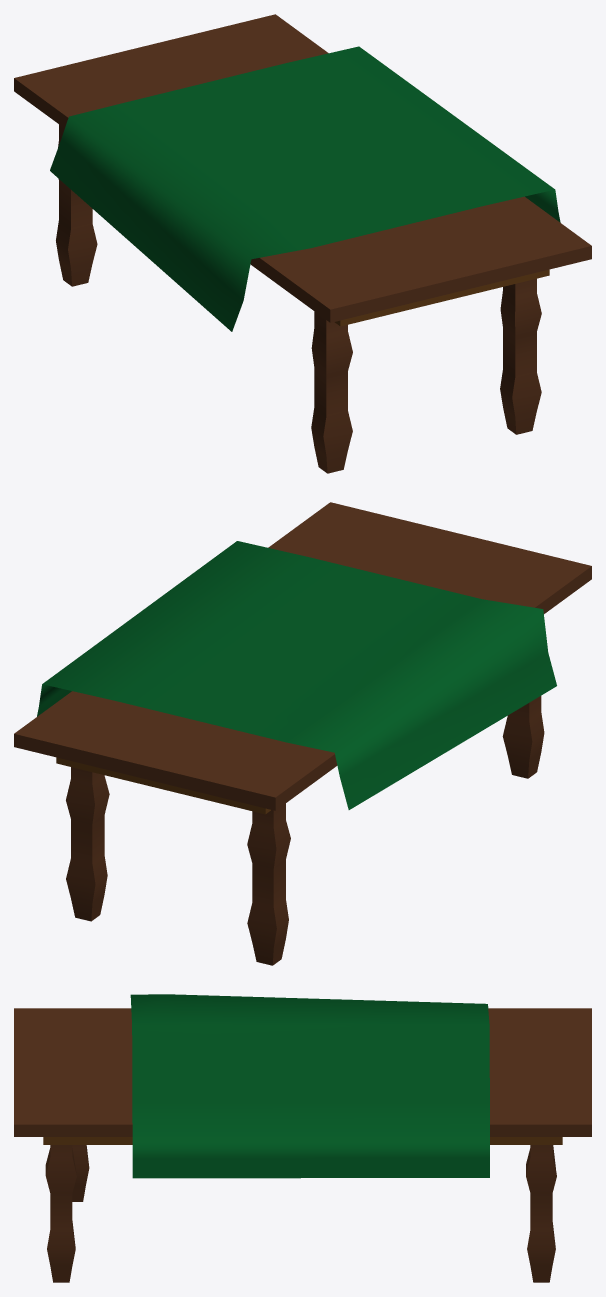
Rendered from Meja.dae.
The picture shows the model from 3 angles, top to bottom: view 1: azimuth 30°, elevation 25°; view 2: azimuth 150°, elevation 25°; view 3: azimuth 270°, elevation 25°; orthographic projection. The views are drawn at different scales.
Visible parts, largest first — view 1: pPlane1, pCube3, pasted__pasted__pasted__pCube4, pCube4, pasted__pasted__pCube4, pasted__pCube3; view 2: pPlane1, pCube3, pasted__pasted__pCube4, pasted__pCube4, pasted__pasted__pasted__pCube4, pasted__pCube3; view 3: pPlane1, pCube3, pCube4, pasted__pCube4, pasted__pCube3, pasted__pasted__pasted__pCube4.
Part boxes in pixels (bbox=[...]): pPlane1: bbox=[50, 46, 560, 331]; pCube3: bbox=[14, 14, 591, 322]; pasted__pasted__pasted__pCube4: bbox=[311, 311, 352, 473]; pCube4: bbox=[500, 278, 541, 434]; pasted__pasted__pCube4: bbox=[56, 124, 97, 286]; pasted__pCube3: bbox=[334, 269, 549, 326]; pPlane1: bbox=[37, 541, 556, 809]; pCube3: bbox=[14, 502, 591, 810]; pasted__pasted__pCube4: bbox=[247, 803, 290, 965]; pasted__pCube4: bbox=[66, 767, 109, 921]; pasted__pasted__pasted__pCube4: bbox=[502, 696, 544, 778]; pasted__pCube3: bbox=[56, 757, 270, 814]; pPlane1: bbox=[130, 994, 489, 1178]; pCube3: bbox=[14, 1008, 591, 1136]; pCube4: bbox=[45, 1145, 76, 1282]; pasted__pCube4: bbox=[526, 1145, 556, 1282]; pasted__pCube3: bbox=[43, 1137, 562, 1144]; pasted__pasted__pasted__pCube4: bbox=[72, 1145, 89, 1201].
Bounding box in the file's own units: 4.55 × 2.65 × 7.59.
